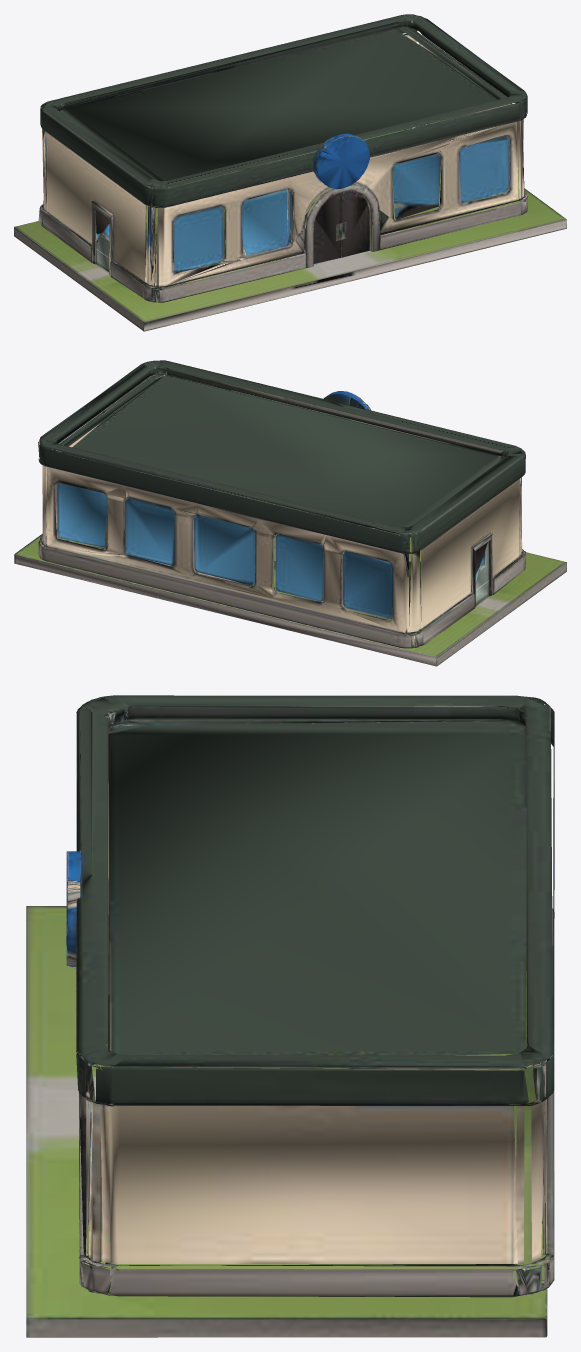
File: grenade-community-low.glb
3 views of the same model, one above another, from view 1: azimuth 30°, elevation 25°; view 2: azimuth 150°, elevation 25°; view 3: azimuth 270°, elevation 25° (orthographic). The views are drawn at different scales.
Bounding box in the file's own units: 0.9429 × 0.291 × 0.5103.
Materials: 1 (1 with a texture image).
